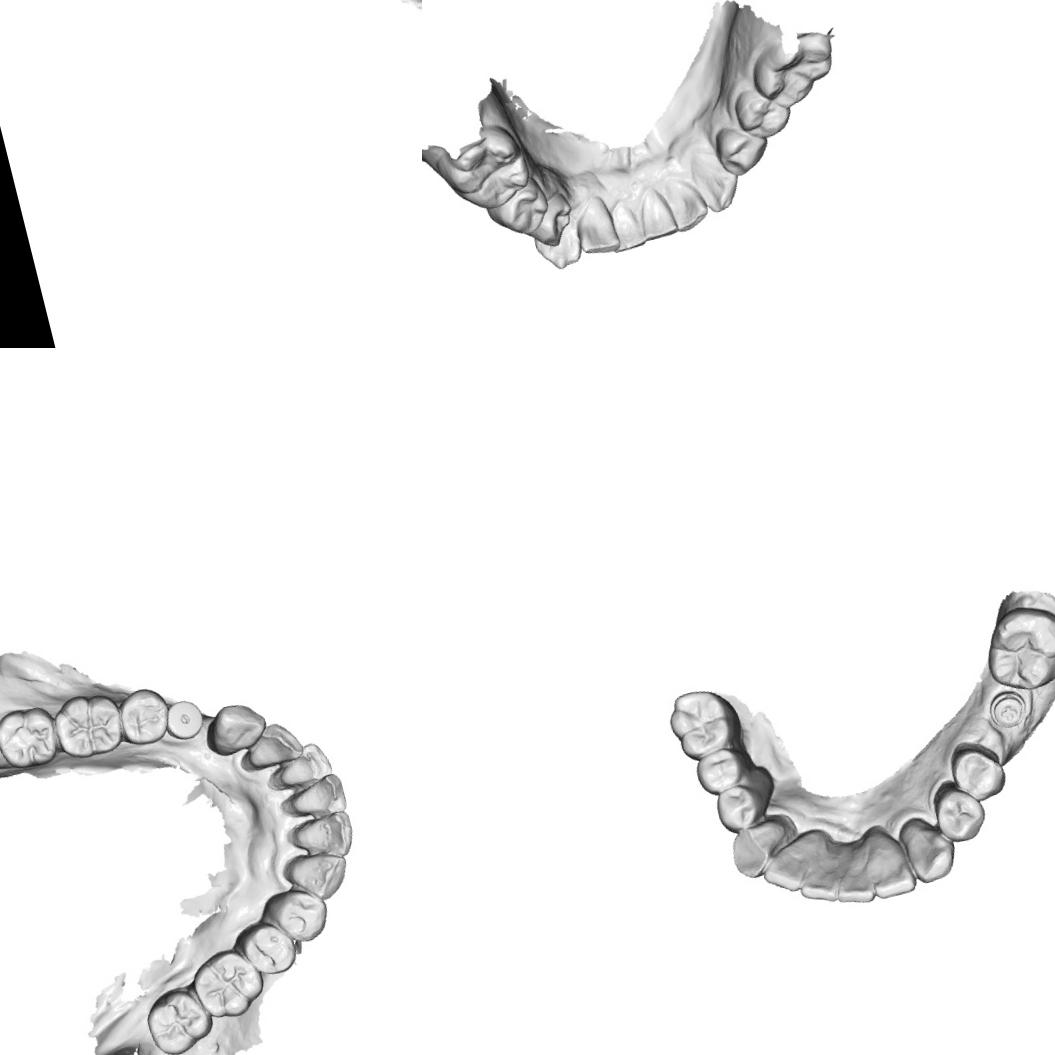canine: (892, 808, 961, 888), (275, 842, 356, 910), (718, 815, 796, 883), (525, 202, 592, 277), (198, 695, 272, 761), (683, 146, 745, 218)
implant: (157, 693, 206, 744)
implant_plus: (985, 685, 1035, 732)
incisor: (754, 827, 832, 900), (281, 803, 360, 869), (788, 836, 856, 910), (822, 834, 887, 911), (859, 820, 920, 902), (260, 734, 336, 796), (562, 188, 625, 262), (236, 714, 308, 778), (276, 770, 351, 824), (658, 171, 714, 237), (630, 179, 682, 245), (603, 195, 656, 256)
molar: (433, 119, 540, 220), (742, 23, 848, 117), (180, 941, 274, 1029), (974, 597, 1055, 699), (660, 679, 744, 766), (45, 681, 127, 764), (137, 980, 217, 1055), (0, 695, 66, 775)
premolar: (228, 911, 306, 985), (481, 172, 557, 245), (260, 880, 335, 952), (926, 772, 992, 848), (726, 77, 797, 146), (944, 734, 1010, 806), (111, 679, 176, 751), (708, 115, 776, 182), (522, 188, 582, 252), (707, 778, 771, 837), (689, 741, 751, 799)
